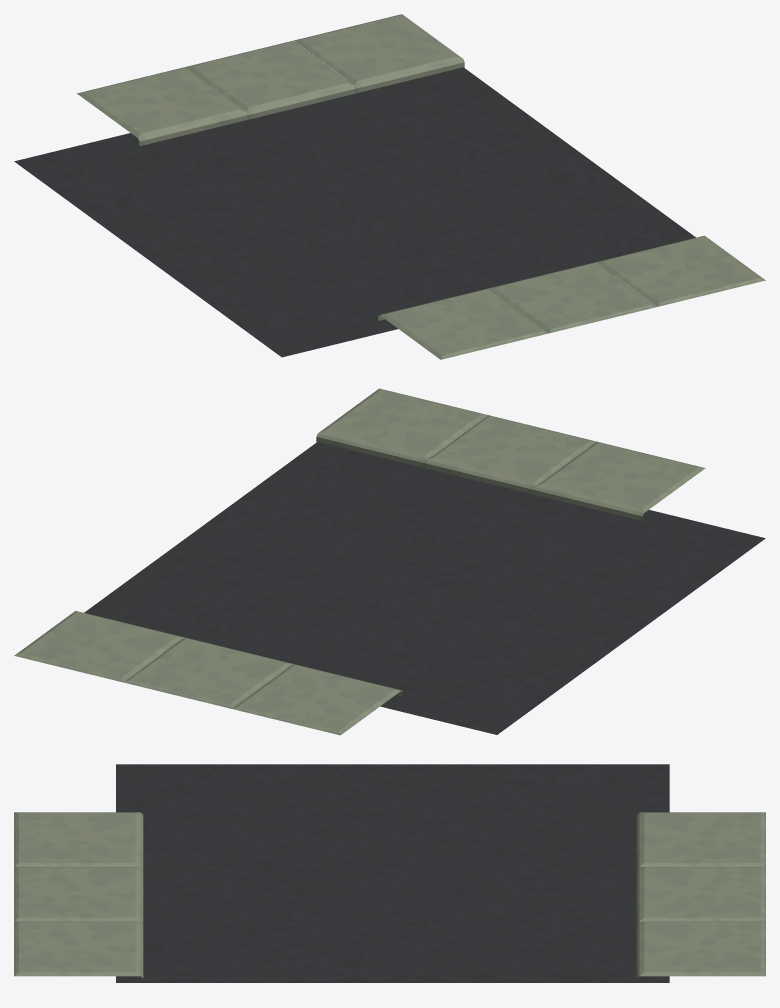
The model's file is HalfRoad.fbx.
3 renders of one model, top to bottom at view 1: azimuth 30°, elevation 25°; view 2: azimuth 150°, elevation 25°; view 3: azimuth 270°, elevation 25°, orthographic. The views are drawn at different scales.
Visible parts, largest first — view 1: RoadTile, SidewalkStraight; view 2: RoadTile, SidewalkStraight; view 3: RoadTile, SidewalkStraight.
Boxes of the visible parts, x1,y1,x2,y2 form: RoadTile: (14, 67, 695, 357); SidewalkStraight: (77, 14, 765, 359); RoadTile: (84, 442, 765, 734); SidewalkStraight: (14, 388, 705, 735); RoadTile: (116, 764, 669, 982); SidewalkStraight: (14, 812, 765, 978).
Size of the model in its own units: 802 by 32.62 by 1163.
